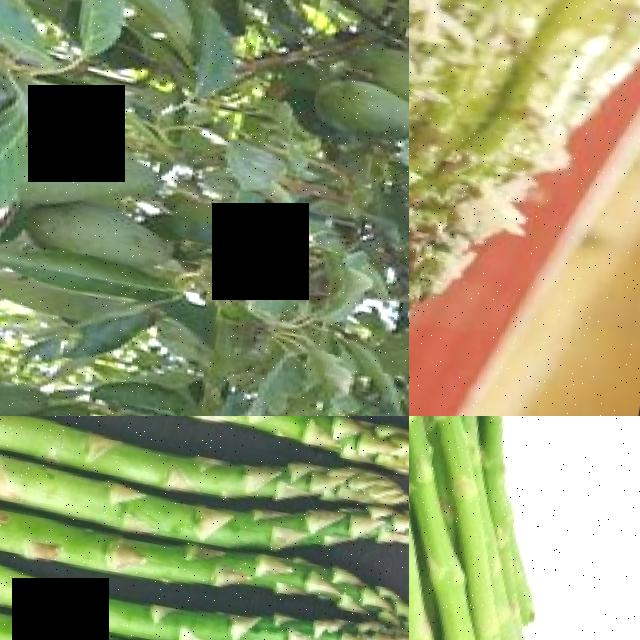asparagus: (0, 439, 409, 578), (0, 482, 405, 618), (0, 539, 409, 640), (0, 416, 393, 520), (0, 582, 409, 640), (0, 416, 409, 474)
avocado: (6, 131, 187, 219), (24, 191, 182, 278), (0, 68, 123, 146), (299, 69, 409, 147), (343, 33, 409, 119), (0, 358, 60, 416), (0, 382, 97, 416)
